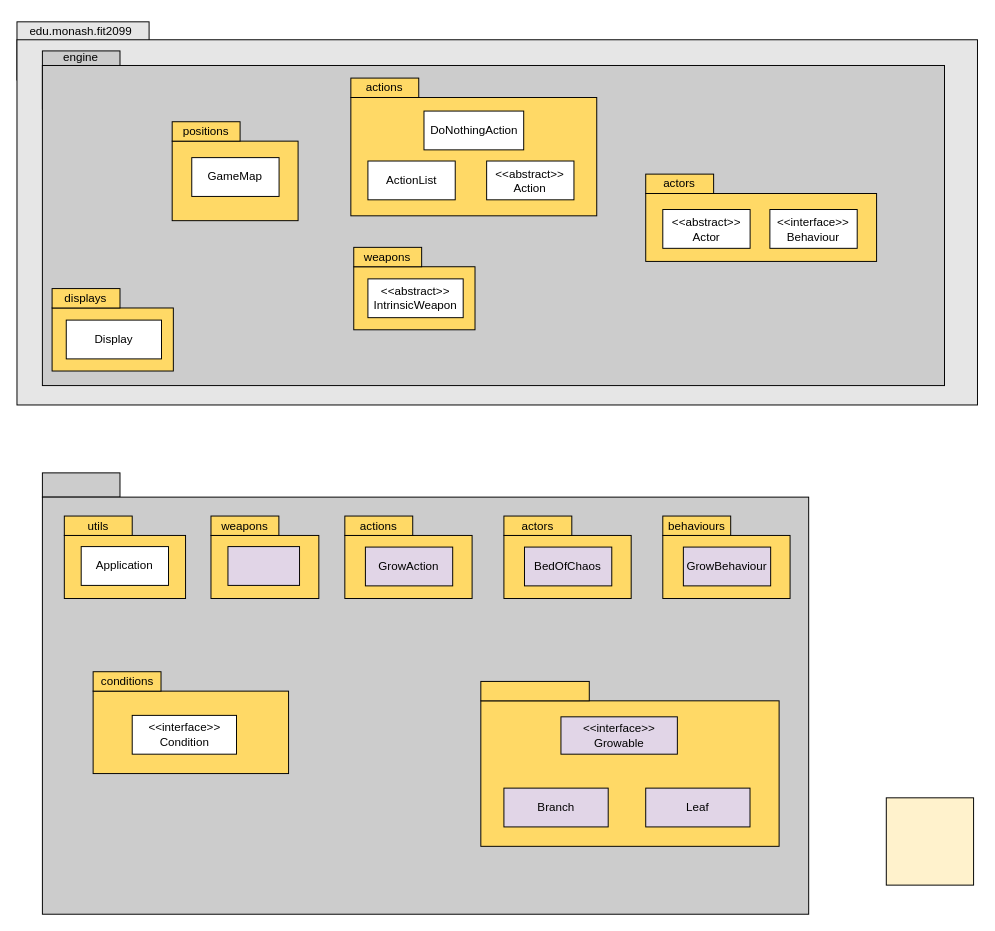
Some shapes in this 995 by 931 pixel diagram are drawn without their labels. Here are the shapes that lost their labels. From the top down, the centre of each, then its label:
At point (80, 484): "game".
At point (263, 565): "Claw".
At point (534, 690): "bosscomponenets".
At point (929, 841): "The purple boxes show the newly created classes".
